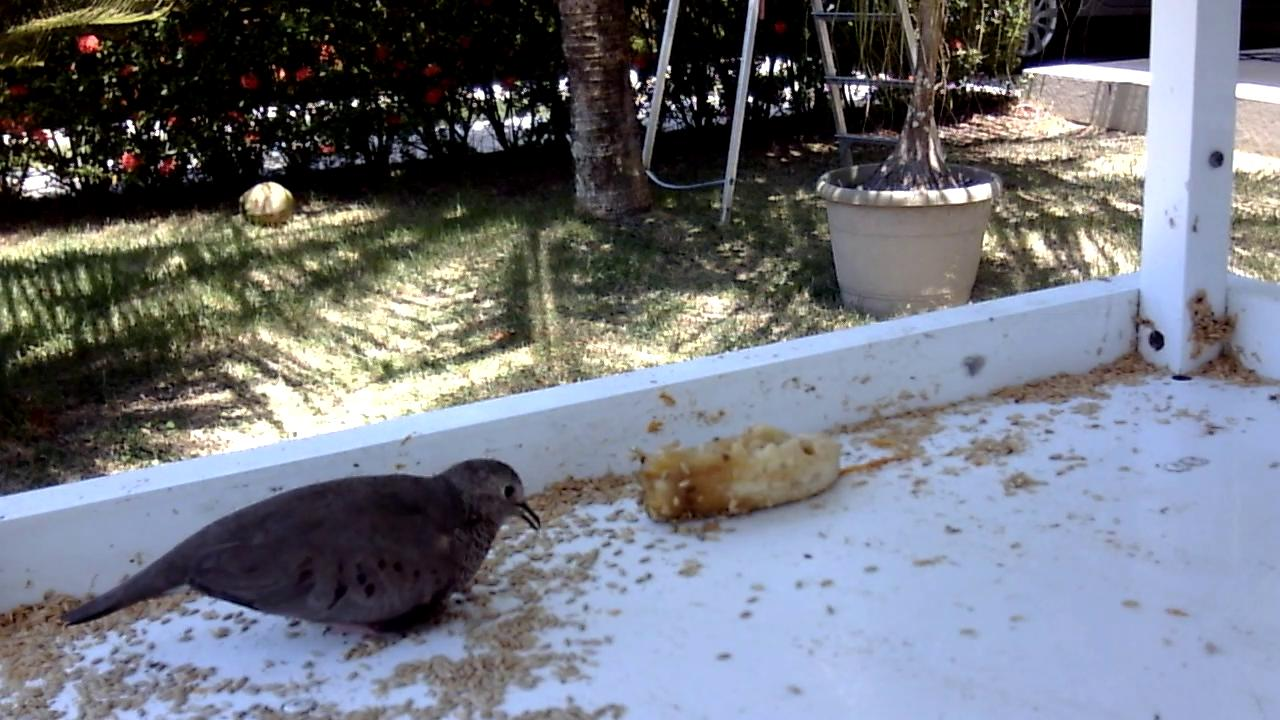rolinha: (58, 455, 546, 642)
